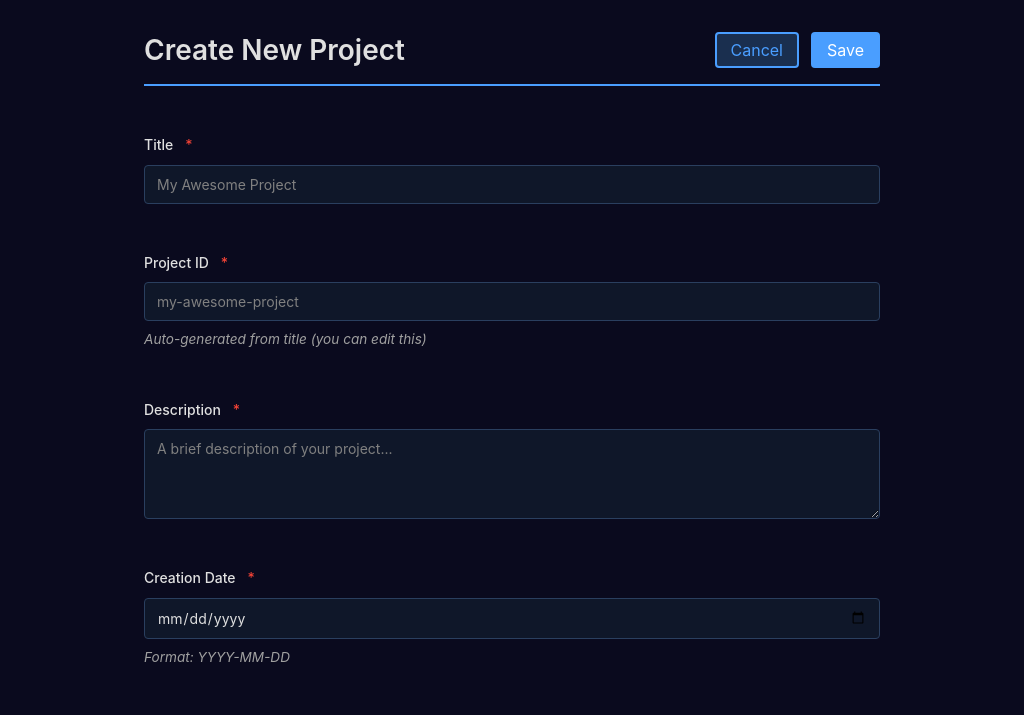
Test: ProjectForm › Validation › should validate ID format
In the field labelled "Project ID": (512, 302) [144,282,880,321], type "Invalid ID With Spaces"
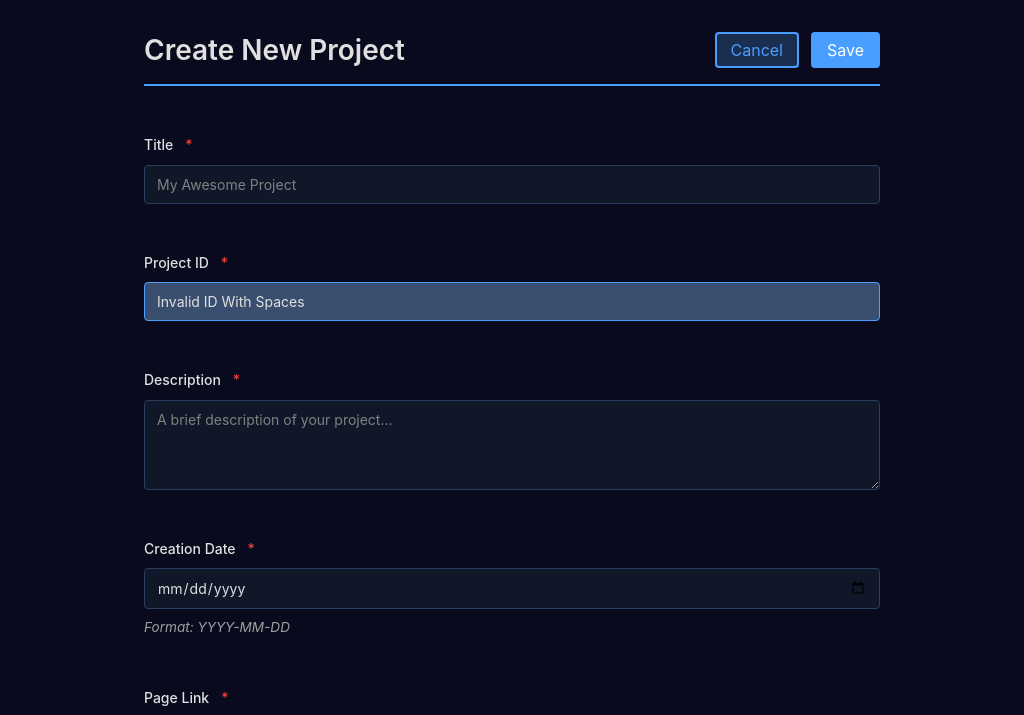
Press Tab
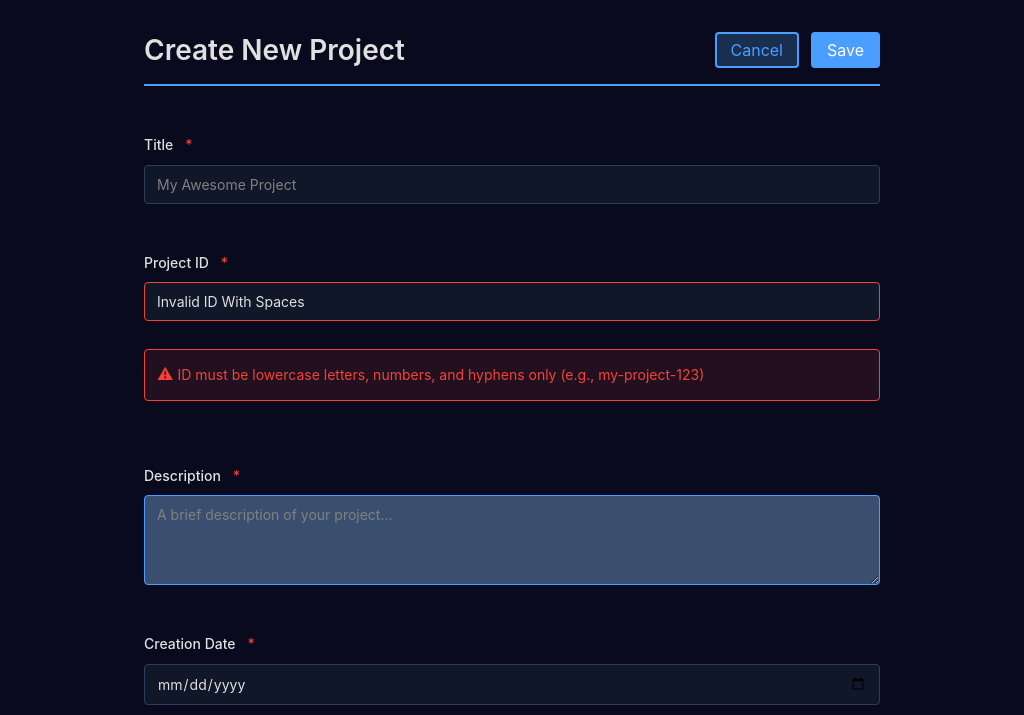
Now the text "ID must be lowercase letters, numbers, and hyphens only (e.g., my-project-123)" is shown, box [144,349,880,401]
